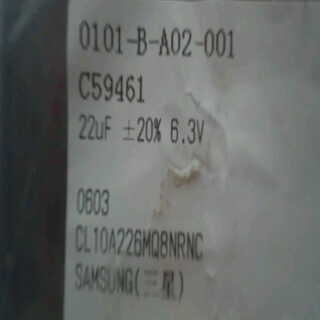22uF: (74, 103, 115, 146)
